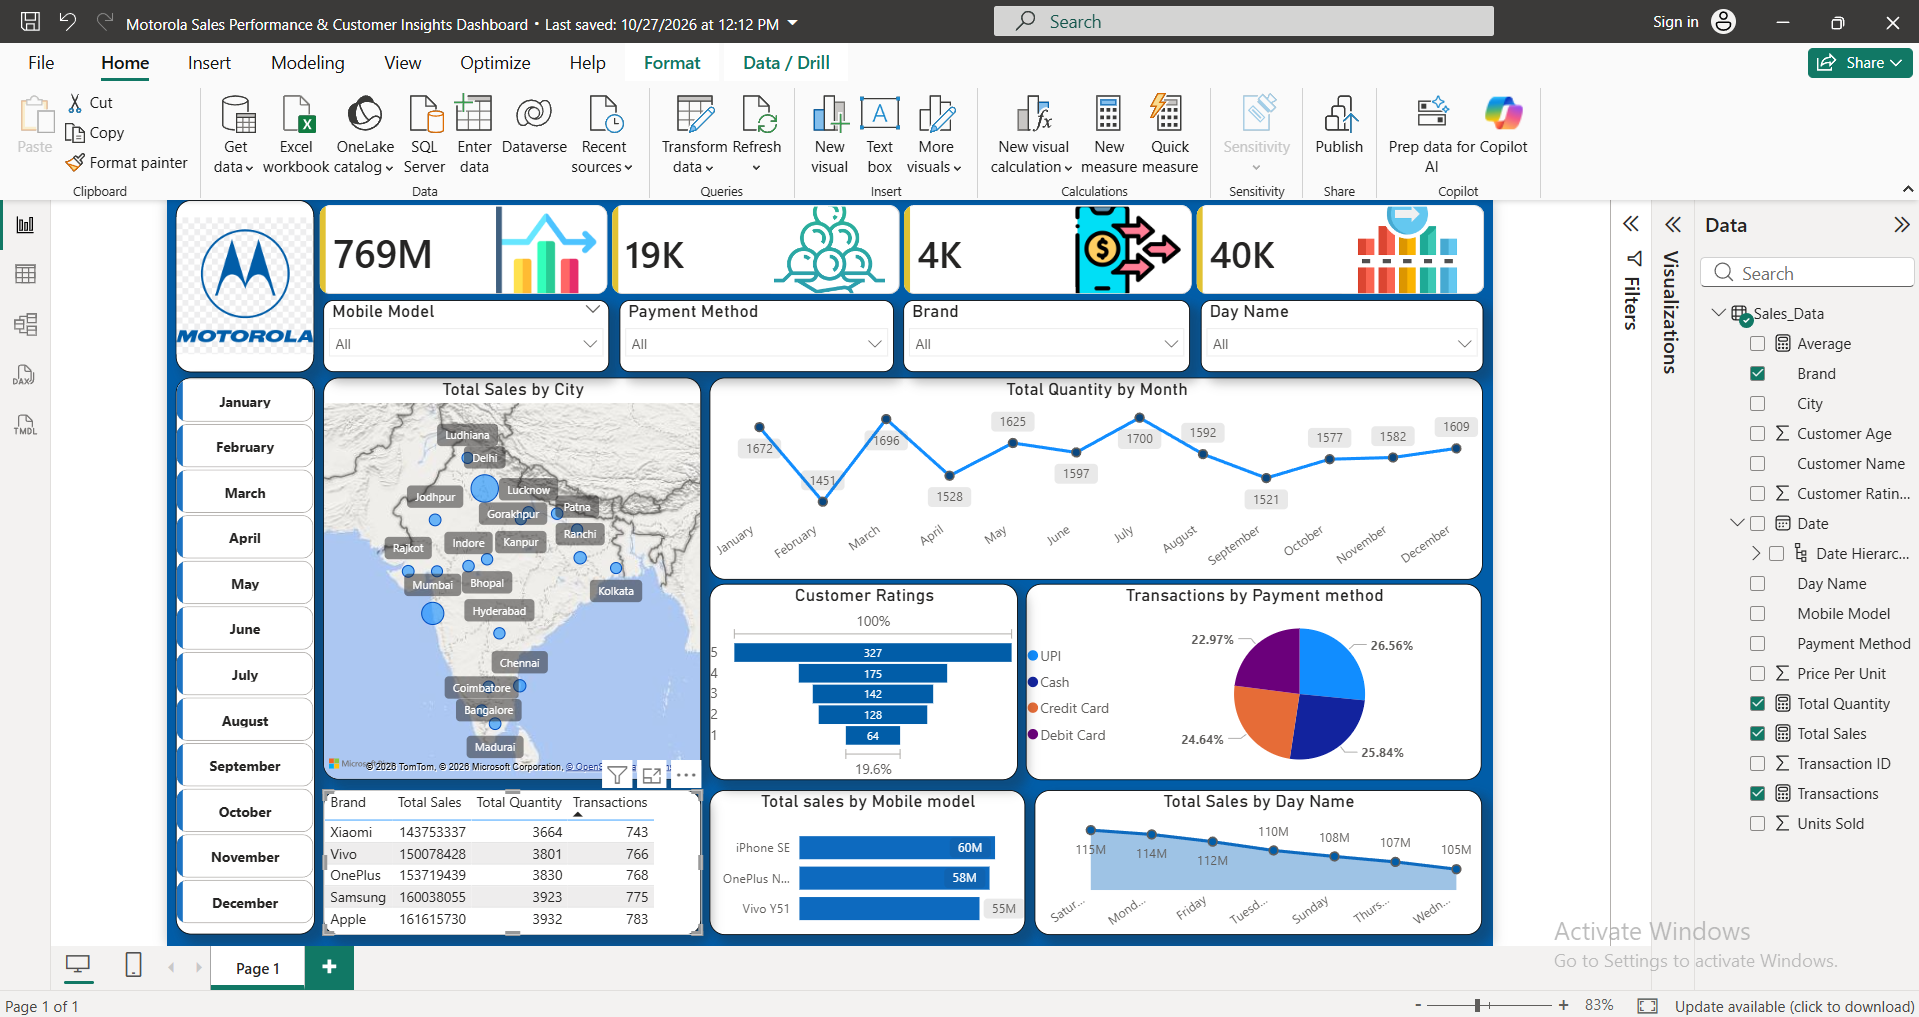

The page's visual inventory and layout, read from the dashboard file:
{"tool":"powerbi","page":{"name":"Page 1","canvas":[1280,720],"ordinal":0},"visuals":[{"type":"image","box":[8.4,0,133.9,166.5],"z":0},{"type":"advancedSlicerVisual","fields":{"Values":["Sales_Data.Date.Variation.Date Hierarchy.Month"]},"box":[8.2,171.5,134.5,537.9],"z":1000},{"type":"cardVisual","fields":{"Data":["Sales_Data.Total Sales","Sales_Data.Total Quantity","Sales_Data.Transactions","Sales_Data.Average"]},"box":[142.4,0,1137.7,96.5],"z":2000},{"type":"map","fields":{"Category":["Sales_Data.City"],"Size":["Sales_Data.Total Sales"]},"box":[150.9,171.5,365,388.3],"z":3000},{"type":"lineChart","title":"Total Quantity by Month","fields":{"Y":["Sales_Data.Total Quantity"],"Category":["Sales_Data.Date.Variation.Date Hierarchy.Month","Sales_Data.Date.Variation.Date Hierarchy.Day"]},"box":[524.2,171.5,746.5,194.9],"z":4000},{"type":"clusteredBarChart","title":"Total sales by Mobile model","fields":{"Category":["Sales_Data.Mobile Model"],"Y":["Sales_Data.Total Sales"]},"box":[524.2,569.5,304.6,140],"z":4001},{"type":"pieChart","title":"Transactions by Payment  method","fields":{"Category":["Sales_Data.Payment Method"],"Y":["Sales_Data.Transactions"]},"box":[828.8,370.4,440.4,189.4],"z":4002},{"type":"funnel","title":"Customer Ratings","fields":{"Category":["Sales_Data.Customer Ratings"],"Y":["CountNonNull(Sales_Data.Customer Ratings)"]},"box":[524.2,370.5,297.8,189.4],"z":4003},{"type":"areaChart","fields":{"Category":["Sales_Data.Day Name"],"Y":["Sales_Data.Total Sales"]},"box":[837.3,569.4,431.9,139.9],"z":4004},{"type":"tableEx","fields":{"Values":["Sales_Data.Brand","Sales_Data.Total Sales","Sales_Data.Total Quantity","Sales_Data.Transactions"]},"box":[150.9,569.5,365,140],"z":4005},{"type":"slicer","fields":{"Values":["Sales_Data.Mobile Model"]},"box":[150.9,96.1,275.8,70],"z":4006},{"type":"slicer","fields":{"Values":["Sales_Data.Payment Method"]},"box":[436.4,96.1,264.8,70],"z":4007},{"type":"slicer","fields":{"Values":["Sales_Data.Brand"]},"box":[710.8,96.1,277.2,70],"z":4008},{"type":"slicer","fields":{"Values":["Sales_Data.Day Name"]},"box":[997.6,96.1,273.1,70],"z":4009}]}

Visuals, with their boxes on the page's 1280x720 design canvas (x1, y1, x2, y2). These are canvas units, not pixel positions in the 1919x1017 screenshot, which may show the page scaled, cropped or inside an application window:
image: {"x1": 8, "y1": 0, "x2": 142, "y2": 166}
advancedSlicerVisual - Sales_Data.Date.Variation.Date Hierarchy.Month: {"x1": 8, "y1": 172, "x2": 143, "y2": 709}
cardVisual - Sales_Data.Total Sales x Sales_Data.Total Quantity: {"x1": 142, "y1": 0, "x2": 1280, "y2": 96}
map - Sales_Data.City x Sales_Data.Total Sales: {"x1": 151, "y1": 172, "x2": 516, "y2": 560}
"Total Quantity by Month" lineChart: {"x1": 524, "y1": 172, "x2": 1271, "y2": 366}
"Total sales by Mobile model" clusteredBarChart: {"x1": 524, "y1": 570, "x2": 829, "y2": 710}
"Transactions by Payment  method" pieChart: {"x1": 829, "y1": 370, "x2": 1269, "y2": 560}
"Customer Ratings" funnel: {"x1": 524, "y1": 370, "x2": 822, "y2": 560}
areaChart - Sales_Data.Day Name x Sales_Data.Total Sales: {"x1": 837, "y1": 569, "x2": 1269, "y2": 709}
tableEx - Sales_Data.Brand x Sales_Data.Total Sales: {"x1": 151, "y1": 570, "x2": 516, "y2": 710}
slicer - Sales_Data.Mobile Model: {"x1": 151, "y1": 96, "x2": 427, "y2": 166}
slicer - Sales_Data.Payment Method: {"x1": 436, "y1": 96, "x2": 701, "y2": 166}
slicer - Sales_Data.Brand: {"x1": 711, "y1": 96, "x2": 988, "y2": 166}
slicer - Sales_Data.Day Name: {"x1": 998, "y1": 96, "x2": 1271, "y2": 166}
